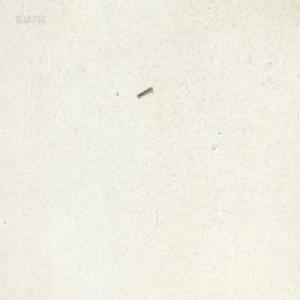Bolt: (135, 84, 152, 97)
